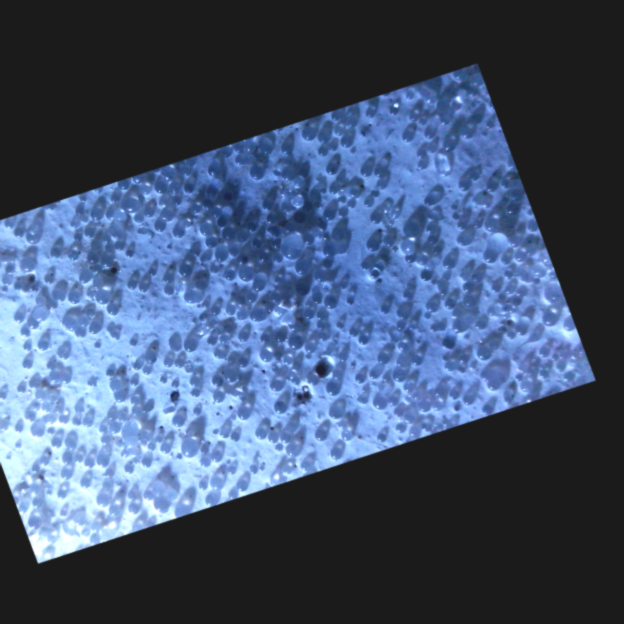GrassBeadSeg: (88, 165, 458, 545), (0, 179, 472, 468), (72, 145, 437, 511), (47, 248, 546, 508), (28, 118, 426, 438), (45, 70, 465, 370), (119, 139, 495, 458), (102, 70, 466, 396), (148, 218, 565, 500), (129, 142, 547, 417), (56, 129, 436, 424), (134, 149, 426, 518), (126, 252, 525, 514), (136, 113, 458, 436), (198, 166, 531, 462), (70, 203, 403, 494), (49, 251, 527, 448), (41, 212, 460, 430), (72, 233, 497, 441), (23, 193, 409, 421), (99, 221, 468, 445), (83, 144, 449, 360), (56, 255, 430, 464), (82, 235, 415, 468), (27, 193, 264, 516), (39, 223, 416, 419), (116, 224, 420, 464), (12, 254, 416, 433), (253, 181, 499, 462), (41, 234, 431, 410), (246, 126, 489, 407), (141, 325, 528, 501), (78, 347, 549, 488), (74, 332, 466, 501), (26, 197, 477, 329), (180, 290, 561, 444), (150, 212, 383, 463), (210, 164, 454, 403), (191, 165, 553, 324), (27, 254, 447, 389), (15, 285, 549, 390), (137, 91, 416, 291), (0, 282, 476, 399), (12, 262, 372, 412), (3, 229, 234, 460), (214, 238, 474, 440), (94, 361, 457, 505), (42, 274, 473, 387), (207, 235, 395, 491), (62, 336, 451, 450), (170, 271, 431, 428), (19, 255, 511, 337), (4, 322, 302, 457), (46, 283, 278, 456), (170, 227, 446, 372), (344, 200, 571, 372), (227, 322, 444, 493), (119, 169, 325, 342), (12, 313, 390, 407), (221, 308, 409, 488), (59, 354, 276, 506), (209, 211, 336, 462), (233, 331, 430, 492), (39, 247, 226, 409), (236, 240, 411, 412), (15, 322, 344, 413), (0, 381, 318, 474), (155, 239, 262, 514), (210, 254, 415, 387), (34, 310, 328, 401), (26, 253, 283, 347), (327, 142, 463, 317), (314, 189, 481, 329), (267, 313, 558, 392), (297, 383, 532, 472), (29, 401, 238, 500), (249, 333, 408, 461), (81, 333, 272, 437), (151, 220, 303, 350), (182, 289, 318, 434), (161, 184, 339, 294), (256, 252, 382, 406), (34, 291, 193, 413), (301, 234, 442, 367), (12, 228, 101, 437), (31, 258, 121, 459), (0, 256, 114, 414), (152, 187, 218, 444), (286, 335, 493, 416), (2, 276, 107, 434), (286, 380, 499, 456), (247, 310, 360, 452), (197, 223, 483, 279), (29, 463, 229, 543), (145, 407, 404, 467), (332, 228, 465, 336), (26, 302, 468, 334), (346, 107, 489, 204), (361, 352, 577, 411), (372, 321, 514, 410), (131, 291, 283, 368), (206, 168, 284, 316), (257, 290, 414, 362), (50, 291, 461, 316), (323, 336, 491, 396), (113, 232, 306, 280), (105, 304, 248, 368), (118, 305, 171, 474), (145, 341, 298, 398), (93, 209, 184, 304), (186, 270, 432, 304), (328, 185, 500, 233), (291, 374, 377, 468), (82, 459, 236, 511), (175, 356, 310, 415), (129, 396, 416, 423), (25, 456, 136, 525), (363, 239, 423, 366), (331, 113, 398, 225), (236, 357, 294, 483), (249, 209, 333, 293), (147, 192, 231, 276), (457, 310, 572, 368), (227, 301, 298, 394), (304, 284, 413, 343), (15, 414, 137, 463), (124, 237, 263, 280), (400, 79, 492, 141), (279, 186, 358, 256), (117, 145, 241, 189), (376, 264, 445, 343), (47, 236, 120, 310), (175, 257, 457, 276), (288, 191, 397, 240), (357, 370, 431, 442), (114, 338, 196, 402), (456, 180, 535, 246), (35, 375, 319, 393), (58, 323, 126, 397), (284, 198, 369, 257), (72, 328, 227, 360), (221, 144, 324, 191), (389, 89, 485, 138), (234, 131, 329, 180), (2, 266, 75, 329), (127, 265, 235, 307), (34, 203, 99, 272), (312, 241, 415, 282), (20, 467, 79, 537), (288, 303, 342, 379), (3, 258, 101, 298), (93, 208, 143, 284), (20, 371, 70, 446), (199, 433, 291, 473), (37, 434, 150, 466), (436, 247, 555, 277), (17, 258, 36, 438), (21, 318, 87, 369), (515, 324, 573, 381), (514, 329, 575, 383), (426, 225, 536, 253), (4, 207, 86, 244), (68, 476, 116, 536), (204, 396, 244, 463), (252, 195, 302, 247), (67, 236, 109, 289), (277, 401, 327, 441), (502, 268, 540, 318), (18, 491, 65, 529), (374, 348, 491, 363), (316, 113, 355, 157), (21, 340, 60, 382), (423, 300, 455, 350), (196, 304, 234, 345), (158, 356, 199, 393), (215, 219, 255, 256), (486, 282, 520, 325), (272, 401, 343, 421), (378, 298, 456, 315), (79, 197, 108, 240), (133, 197, 180, 223), (353, 167, 385, 205), (126, 172, 178, 194), (168, 183, 212, 207), (291, 171, 324, 194), (235, 331, 285, 343), (225, 302, 272, 314), (178, 441, 197, 457)
